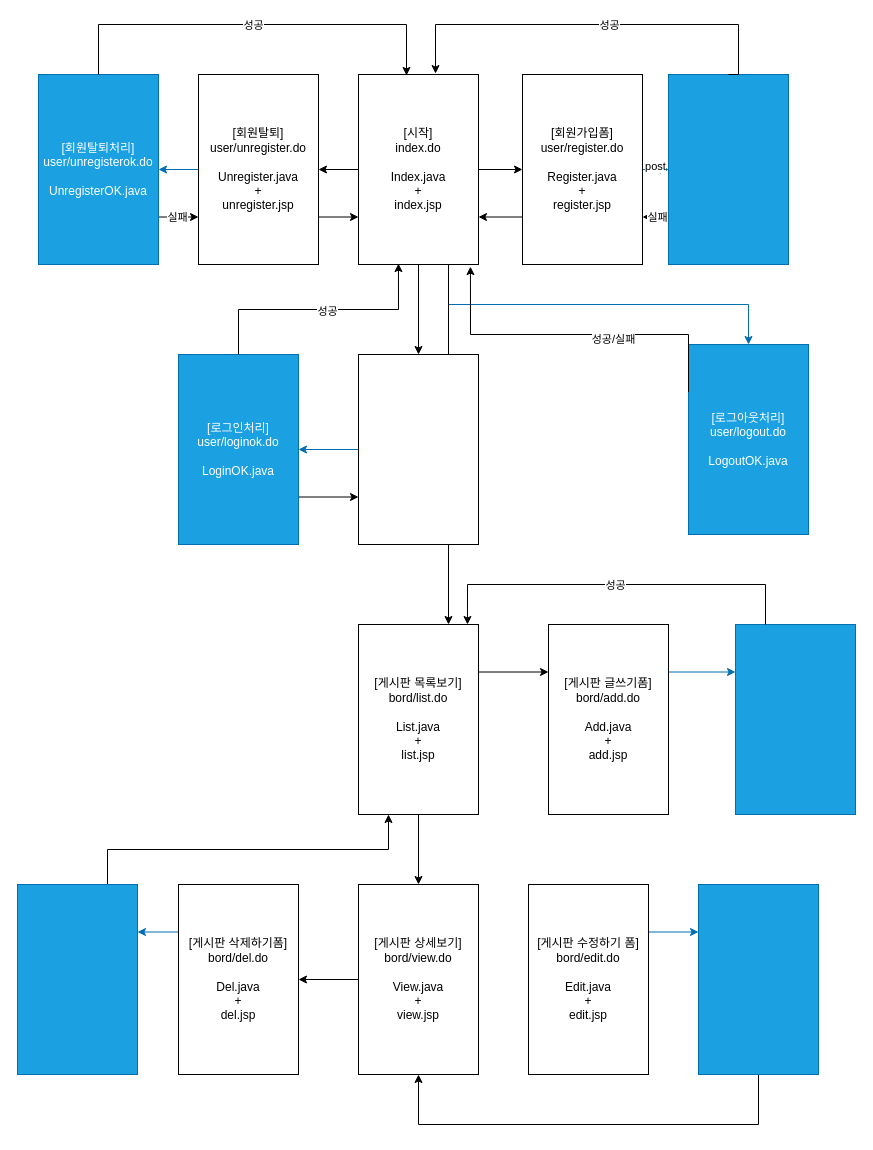
This 873x1150 diagram has some shape labels left out. Each missing label, with the centre of its shape:
"[게시판 글쓰기처리] bord/add.do Add.java" goes at point 795,719.
"[게시판 삭제하기처리] bord/del.do Del.java" goes at point 77,979.
"[게시판 수정하기처리] bord/edit.do Edit.java" goes at point 758,979.
"[로그인폼] user/login.do Login.java + login.jsp" goes at point 418,449.
"[회원가입처리] user/registerok.do RegisterOK.java" goes at point 728,169.
